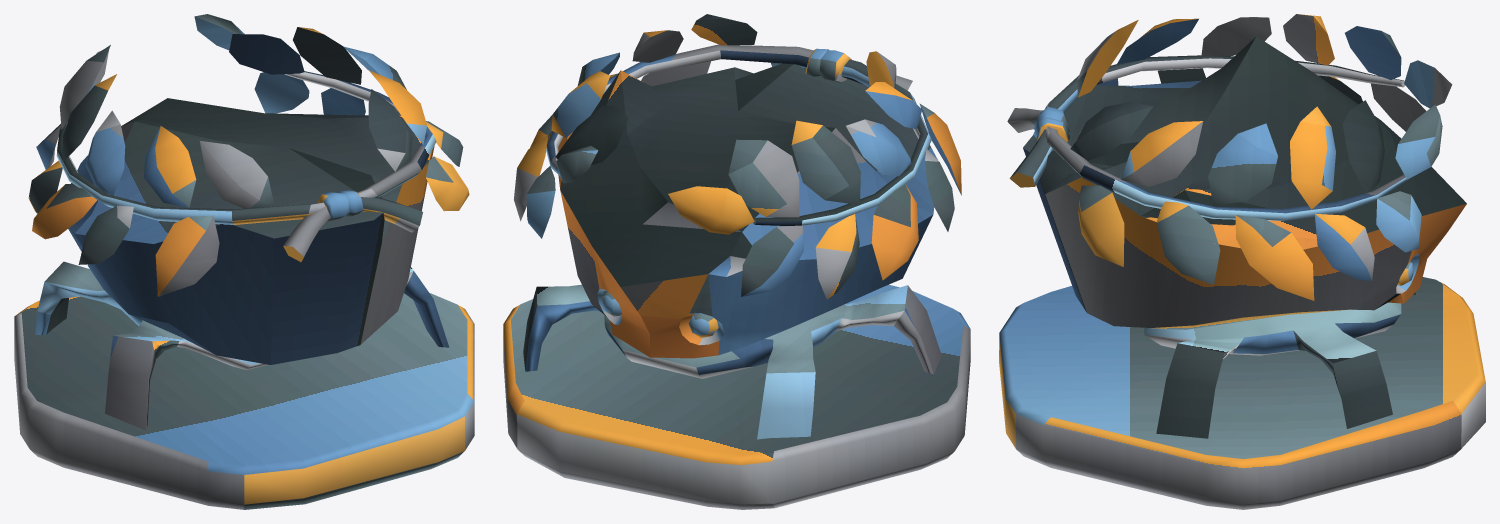
Rendered from CharSkyKid_Prop_CrabOfCompetition_Stone.glb.
3 renders of one model, left to right at view 1: azimuth 30°, elevation 25°; view 2: azimuth 150°, elevation 25°; view 3: azimuth 270°, elevation 25°, orthographic. The views are drawn at different scales.
Visible parts, largest first — view 1: CharSkyKid_Prop_CrabOfCompetition_Stone; view 2: CharSkyKid_Prop_CrabOfCompetition_Stone; view 3: CharSkyKid_Prop_CrabOfCompetition_Stone.
Part boxes in pixels (x1,y1,x2,y2): CharSkyKid_Prop_CrabOfCompetition_Stone: (14, 14, 474, 509); CharSkyKid_Prop_CrabOfCompetition_Stone: (503, 14, 970, 509); CharSkyKid_Prop_CrabOfCompetition_Stone: (999, 14, 1485, 509).
Bounding box in the file's own units: 0.3197 × 0.2324 × 0.3004.
1 material, 1 textured.
